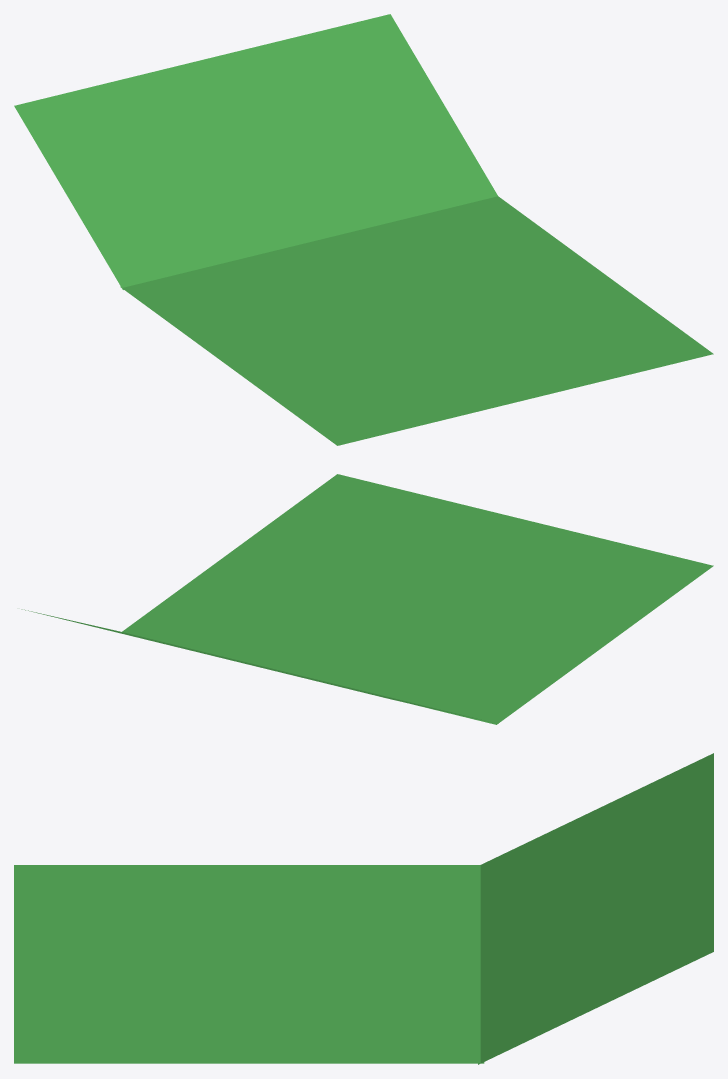
3 renders of one model, top to bottom at view 1: azimuth 30°, elevation 25°; view 2: azimuth 150°, elevation 25°; view 3: azimuth 270°, elevation 25°, orthographic. The views are drawn at different scales.
Visible parts, largest first — view 1: Plane, Plane.001; view 2: Plane, Plane.001; view 3: Plane, Plane.001.
Part boxes in pixels (left/top/right/bottom): Plane: left=120, top=196, right=713, bottom=445; Plane.001: left=14, top=14, right=497, bottom=289; Plane: left=122, top=474, right=713, bottom=724; Plane.001: left=21, top=609, right=491, bottom=722; Plane: left=14, top=865, right=484, bottom=1063; Plane.001: left=478, top=753, right=713, bottom=1064.
Bounding box in the file's own units: 4.79 × 1.27 × 7.12.
